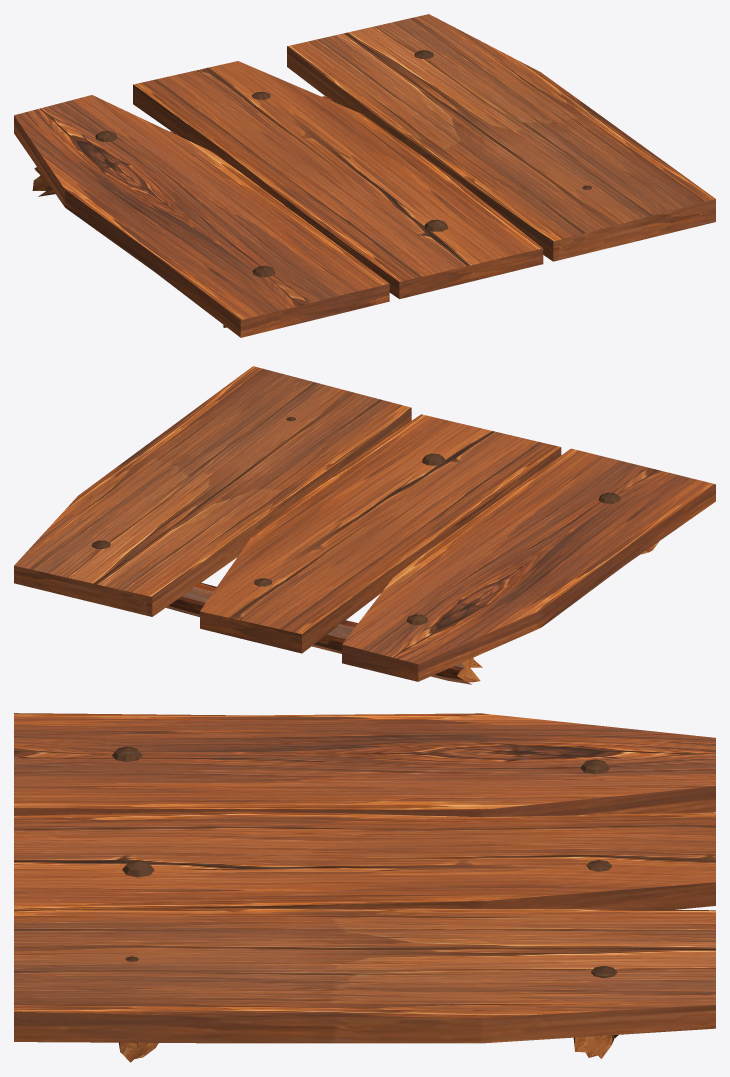
The model's file is trap_dart_plate.glb.
3 renders of one model, top to bottom at view 1: azimuth 30°, elevation 25°; view 2: azimuth 150°, elevation 25°; view 3: azimuth 270°, elevation 25°, orthographic. The views are drawn at different scales.
Parts seen in each view (by area): view 1: model; view 2: model; view 3: model.
Part boxes in pixels (<box>): model: <box>14,14,715,337</box>; model: <box>14,366,715,684</box>; model: <box>14,713,715,1062</box>.
Size of the model in its own units: 0.6833 by 0.0769 by 0.66.
Materials: 9 (9 with a texture image).
